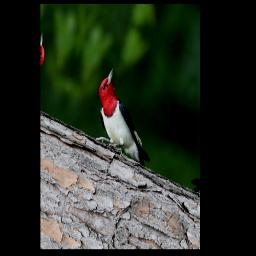Woodpecker: (85, 61, 168, 172)
